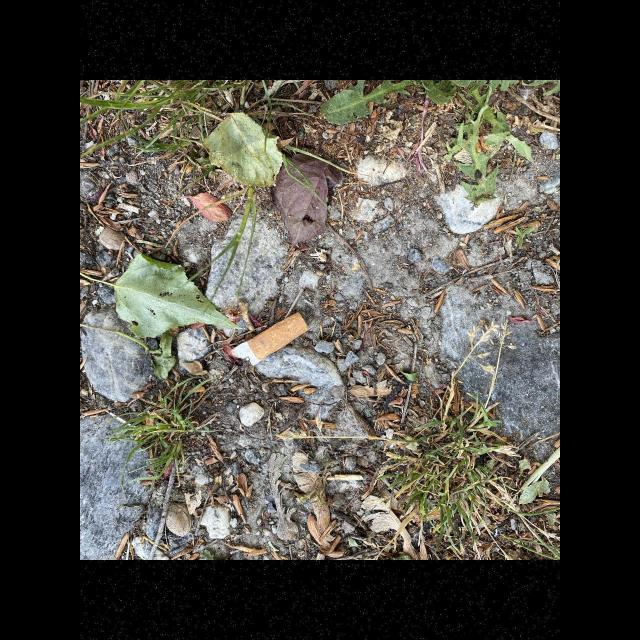cigarette: (229, 311, 310, 367)
